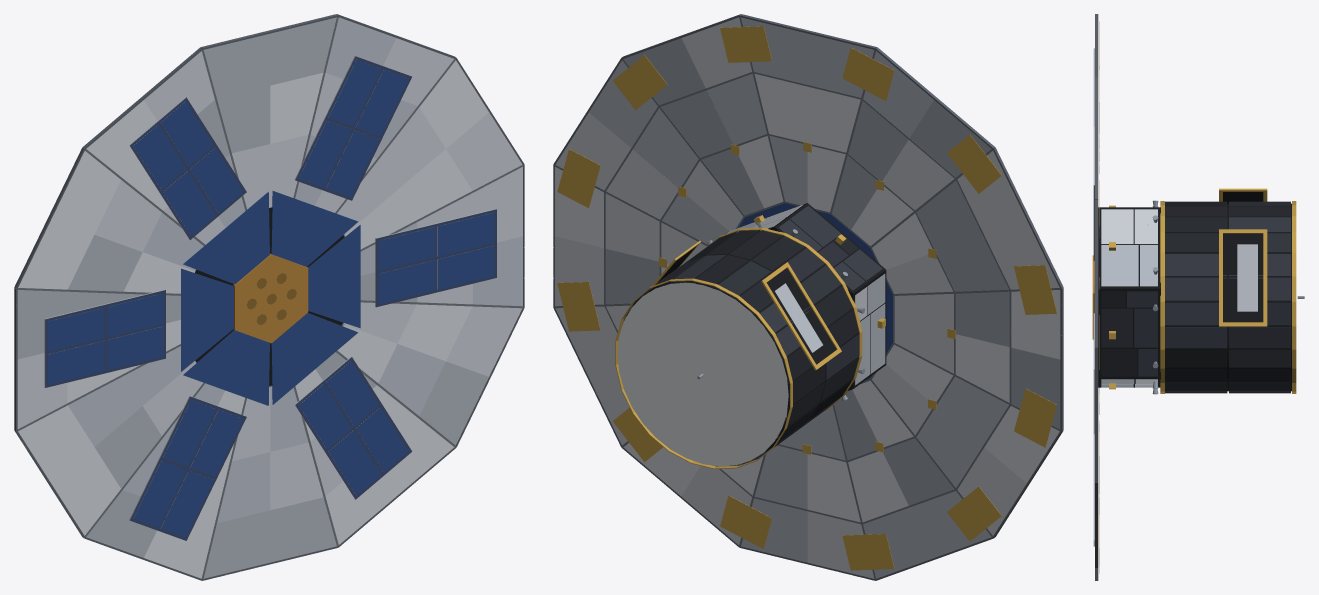
Rendered from gaia.glb.
3 renders of one model, left to right at view 1: azimuth 30°, elevation 25°; view 2: azimuth 150°, elevation 25°; view 3: azimuth 270°, elevation 25°, orthographic. The views are drawn at different scales.
Visible parts, largest first — view 1: foil, solar-panel, body; view 2: foil, body, solar-panel; view 3: foil, body, solar-panel.
Part boxes in pixels (x1=…): foil: x1=16, y1=17, x2=522, y2=578; solar-panel: x1=48, y1=60, x2=494, y2=537; body: x1=14, y1=14, x2=524, y2=580; foil: x1=555, y1=17, x2=1061, y2=578; body: x1=553, y1=14, x2=1063, y2=580; solar-panel: x1=739, y1=203, x2=892, y2=379; foil: x1=1092, y1=21, x2=1296, y2=573; body: x1=1093, y1=14, x2=1304, y2=580; solar-panel: x1=1094, y1=244, x2=1257, y2=312.
Bounding box in the file's own units: 9.69 × 9.69 × 3.69.
